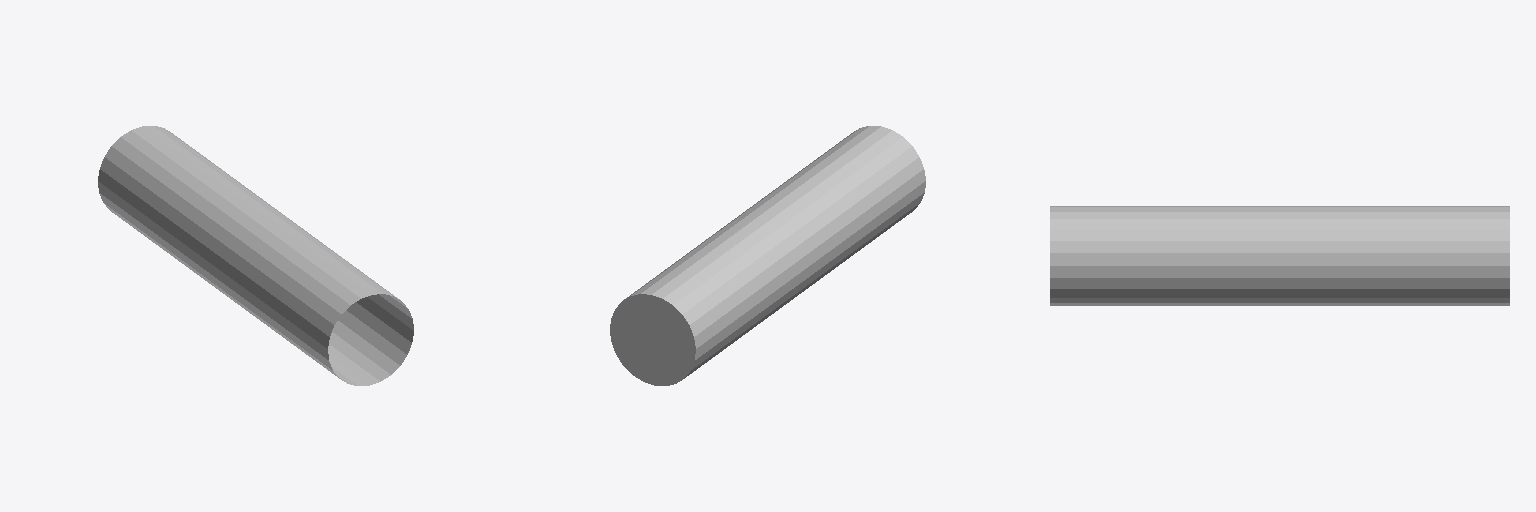
File: original-1.obj
3 views of the same model, side by side, from view 1: azimuth 30°, elevation 25°; view 2: azimuth 150°, elevation 25°; view 3: azimuth 270°, elevation 25° (orthographic).
Parts seen in each view (by area): view 1: 3dw.228b41e91b3eac5e6eed87081bea555c/Model/Group1/mesh1/mesh1-ge; view 2: 3dw.228b41e91b3eac5e6eed87081bea555c/Model/Group1/mesh1/mesh1-ge; view 3: 3dw.228b41e91b3eac5e6eed87081bea555c/Model/Group1/mesh1/mesh1-ge.
Part boxes in pixels (x1,y1,x2,y2): 3dw.228b41e91b3eac5e6eed87081bea555c/Model/Group1/mesh1/mesh1-ge: (98, 126, 413, 385); 3dw.228b41e91b3eac5e6eed87081bea555c/Model/Group1/mesh1/mesh1-ge: (610, 126, 925, 385); 3dw.228b41e91b3eac5e6eed87081bea555c/Model/Group1/mesh1/mesh1-ge: (1050, 206, 1509, 305).
Bounding box in the file's own units: 0.1337 × 0.1337 × 0.6189.